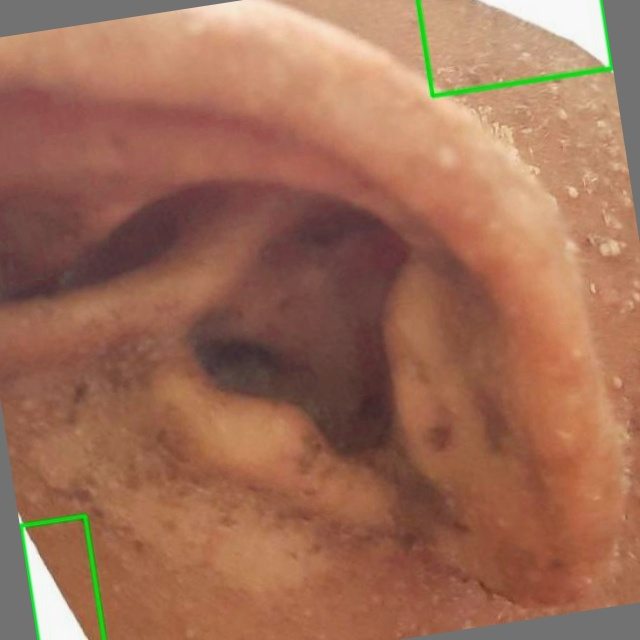Contact Dermatitis: (418, 0, 612, 95), (20, 515, 104, 639)
